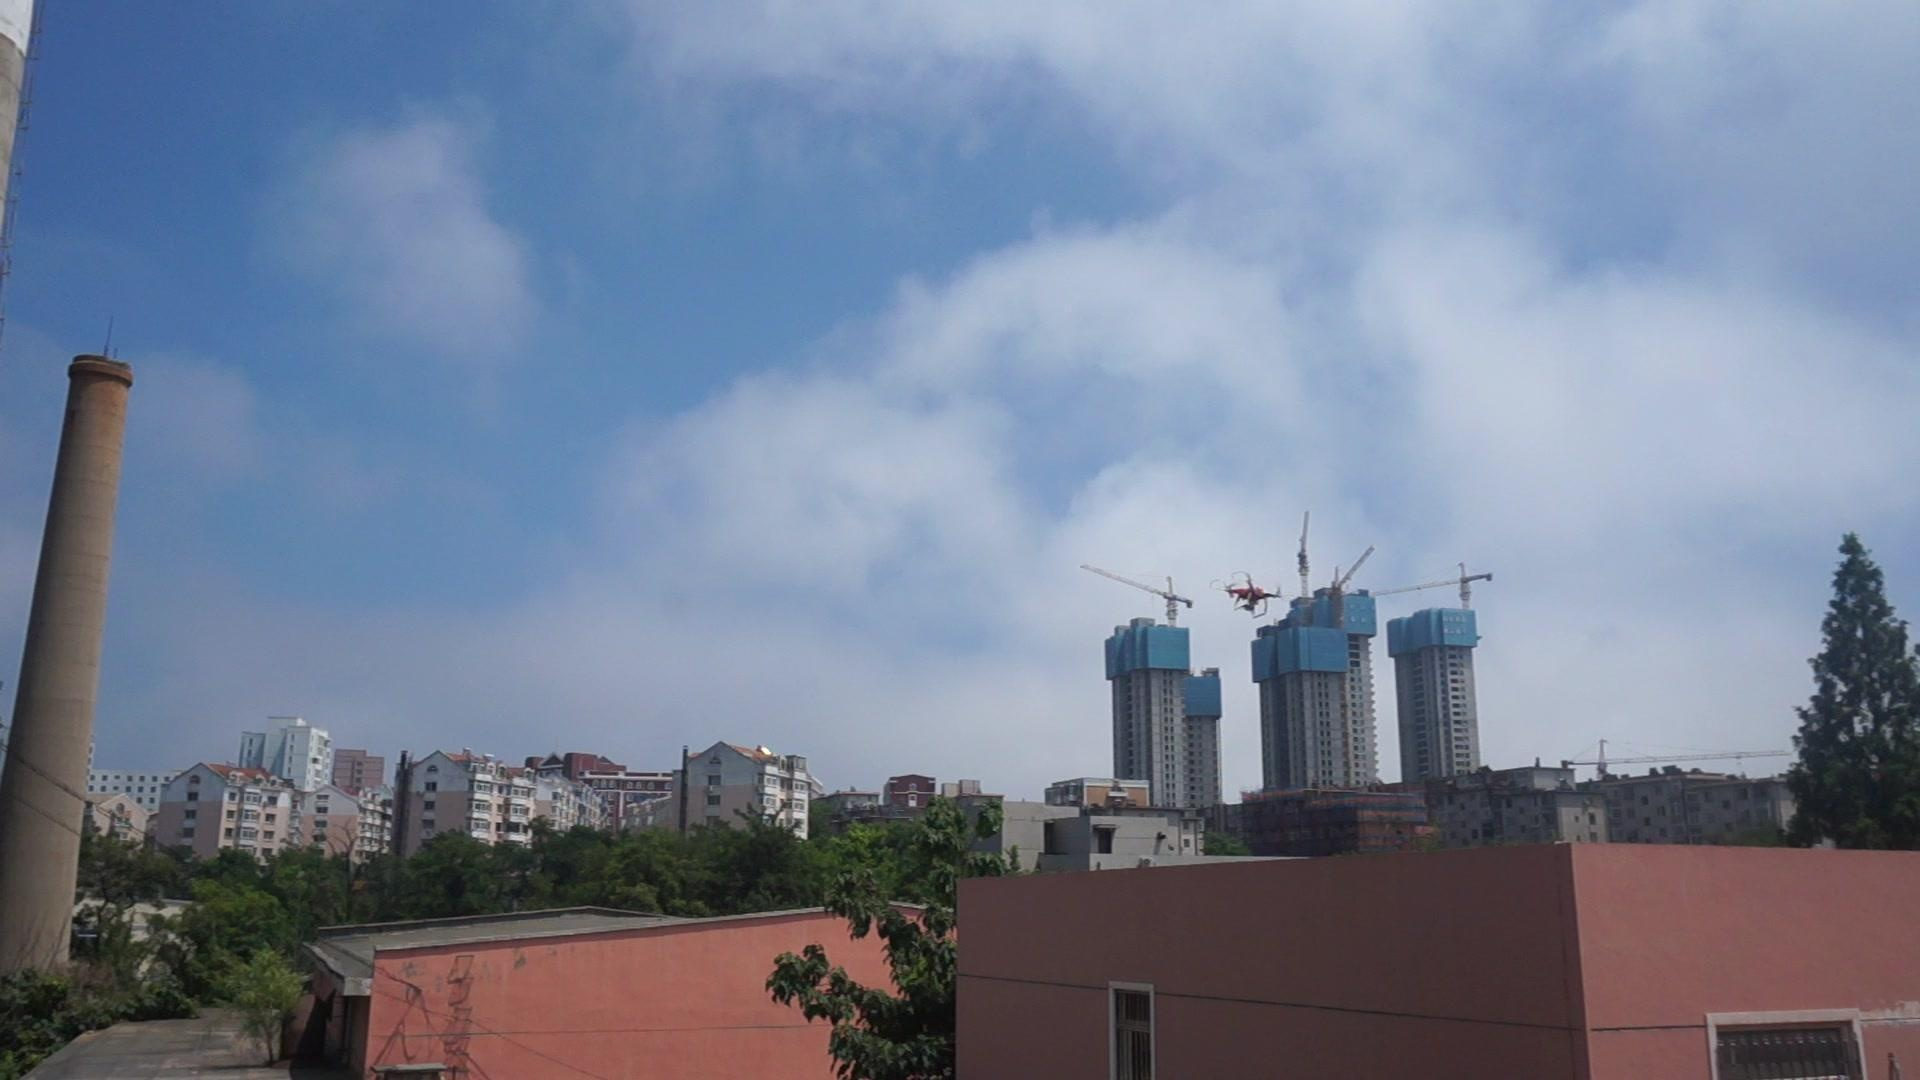UAV: (1211, 572, 1298, 618)
